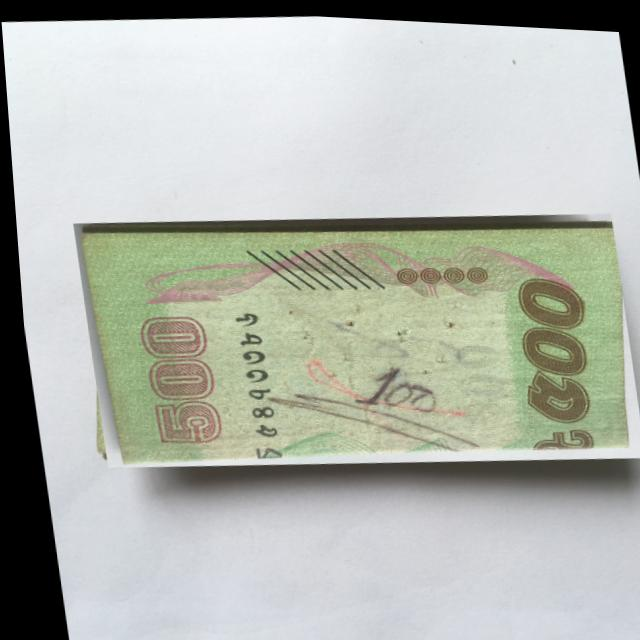Taka: (67, 185, 640, 489)
